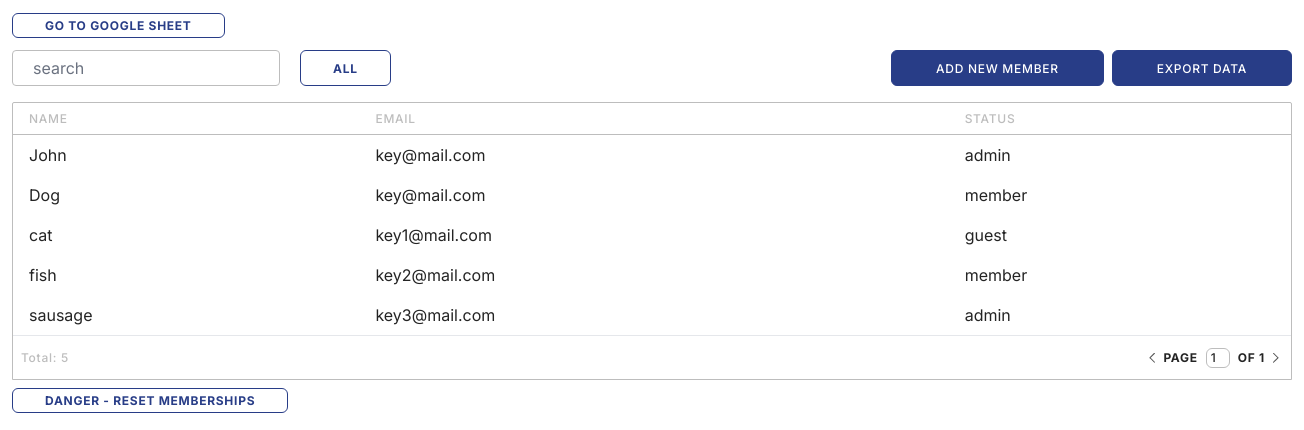
Test case: AdminMemberView › Filters the data by both search query and account type
The image size is (1304, 430).
Type "key" into the field with test id "search-input". click: (146, 68)
box: [12,50,280,86]
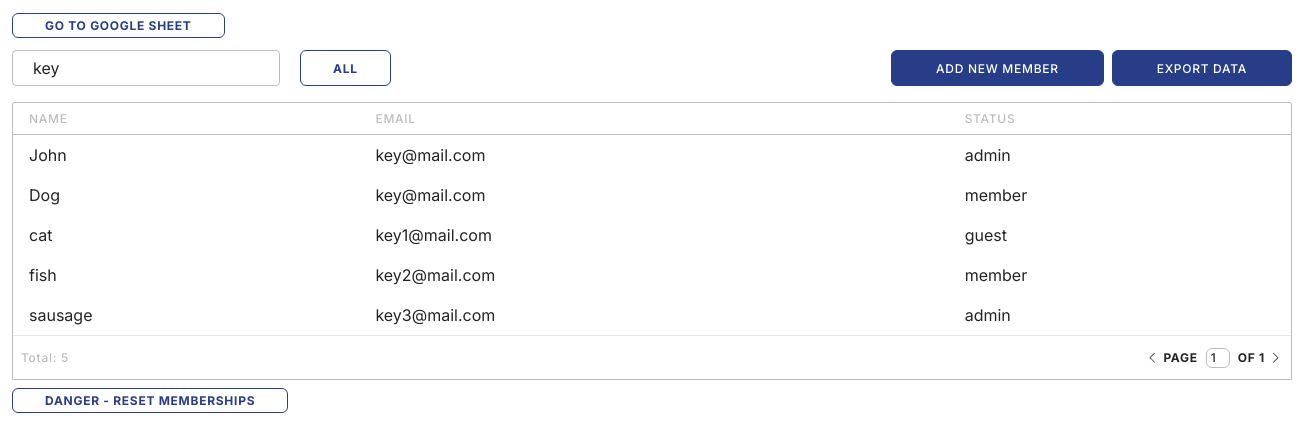
Click the button "all". click: click(345, 68)
box: [300,50,391,86]
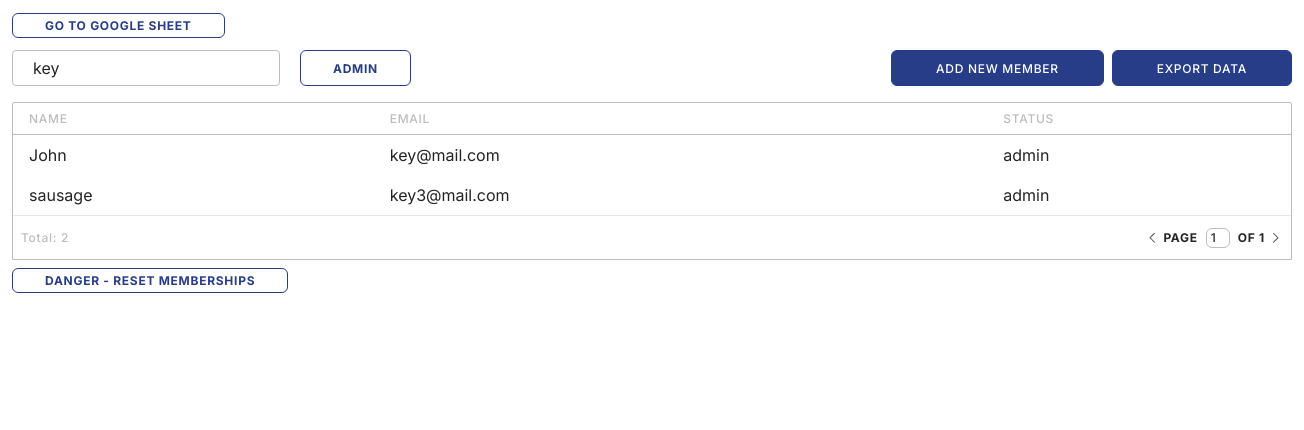
Now the text "sausage" is shown, box [13,175,374,215]
Now the text "Dog" is gone
Now the text "cat" is gone
Click the button "all". click: click(355, 68)
box: [300,50,411,86]
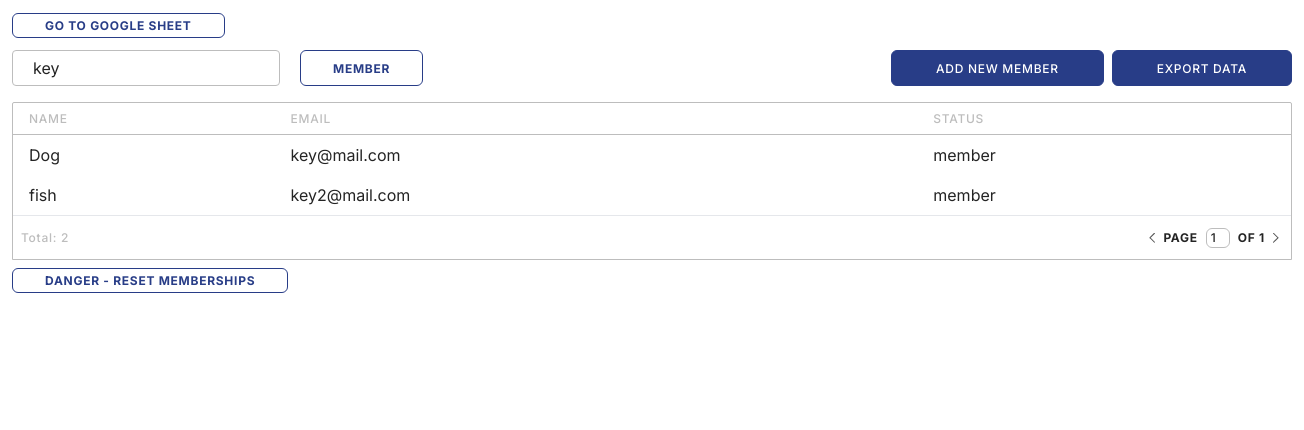
Now the text "John" is gone
Now the text "sausage" is gone
Now the text "Dog" is shown, box [13,134,275,175]
Click the button "all". click: click(362, 68)
box: [300,50,423,86]
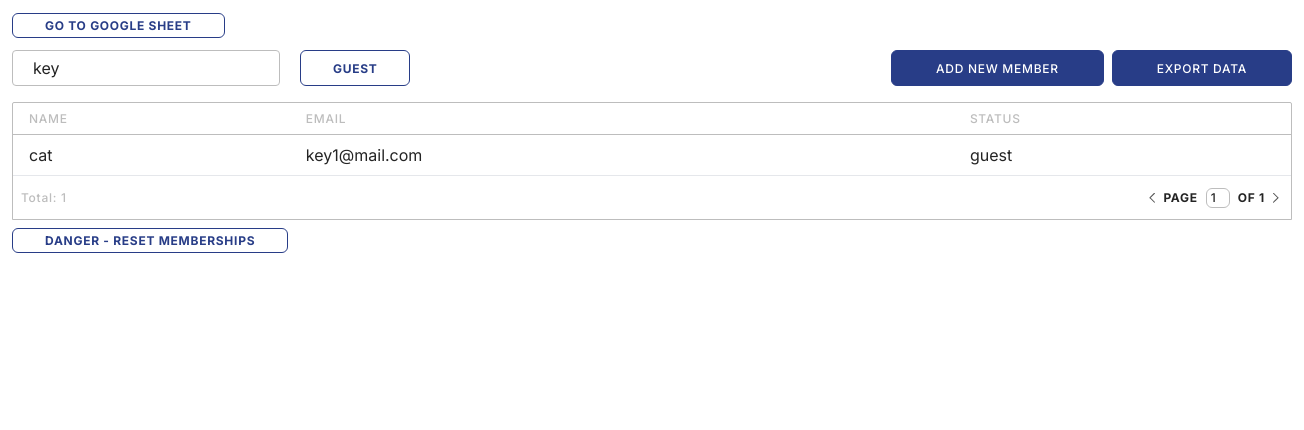
Now the text "Dog" is gone
Now the text "cat" is shown, box [13,134,290,175]
Now the text "fish" is gone
